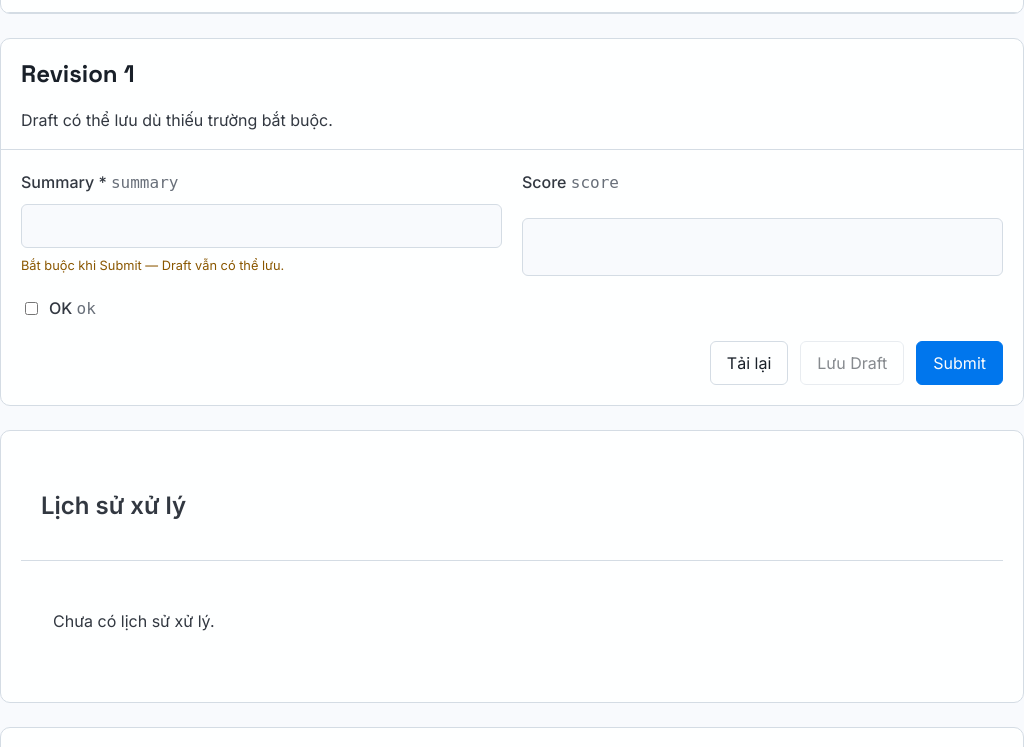
Test: Inspection Draft UI › blocks Submit until required data is saved, then selects a Reviewer
The width and height of the screenshot is (1024, 747).
(page scrolled)
Click the button "Submit" at (960, 363), box [916,341,1003,385]
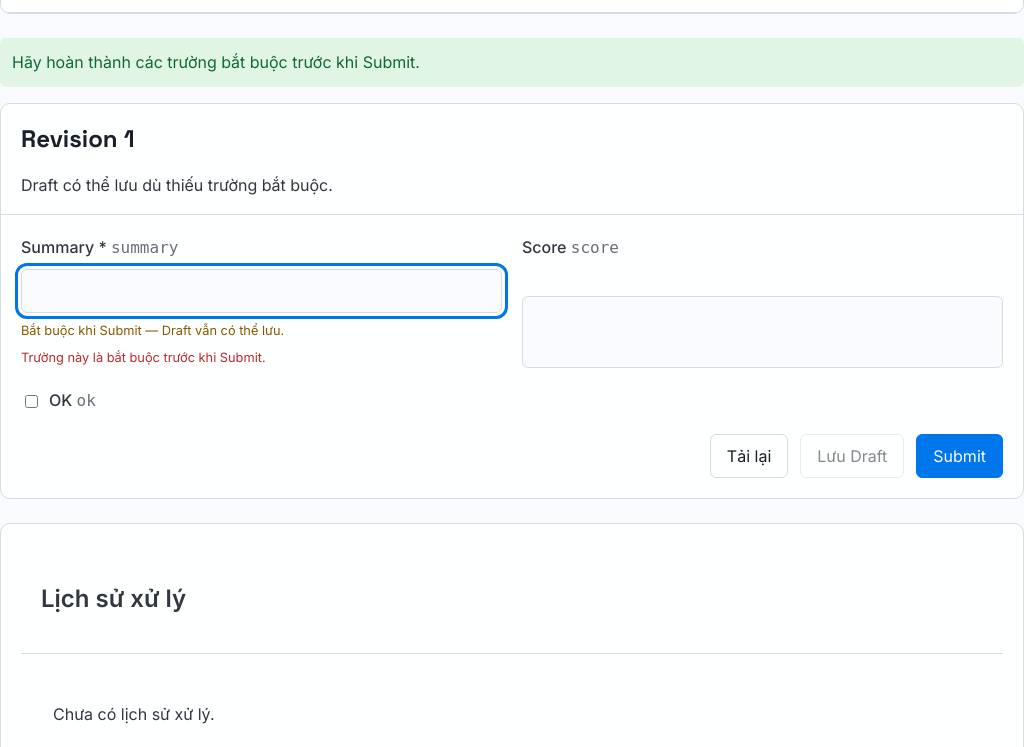
expect the text "Trường này là bắt buộc trước khi Submit." is shown: met, box [21,350,266,365]
Type "complete" into the field labelled "Summary * summary" at (262, 291), box [21,269,502,313]
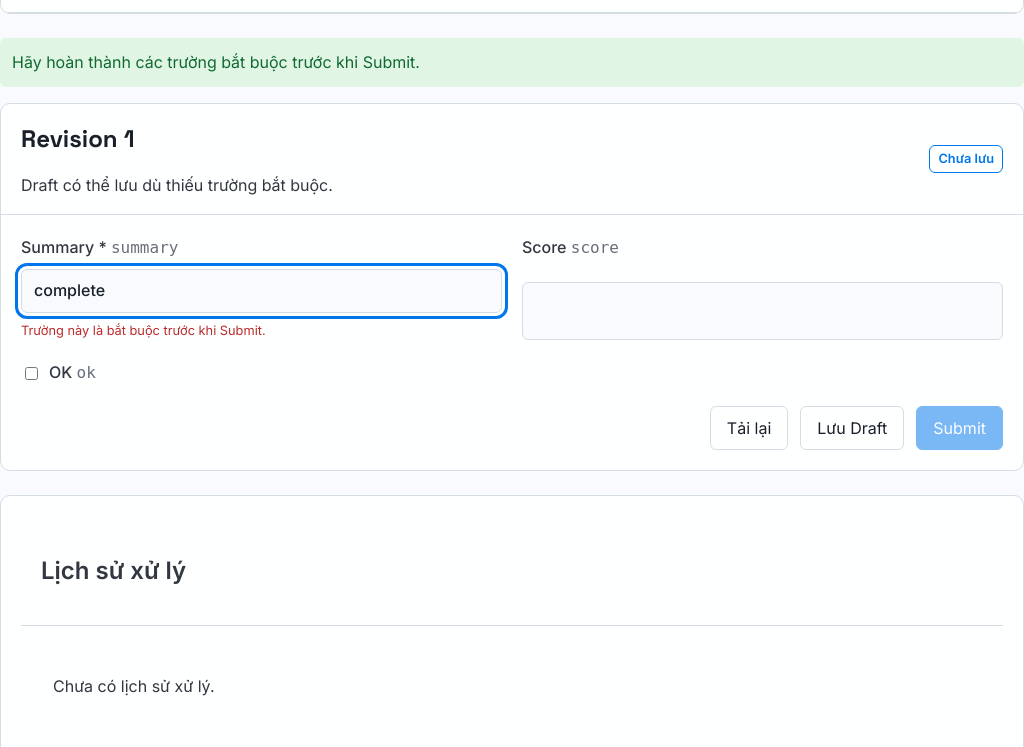
expect the button "Submit" is disabled: met, box [916,406,1003,450]
Click the button "Lưu Draft" at (852, 428), box [800,406,904,450]
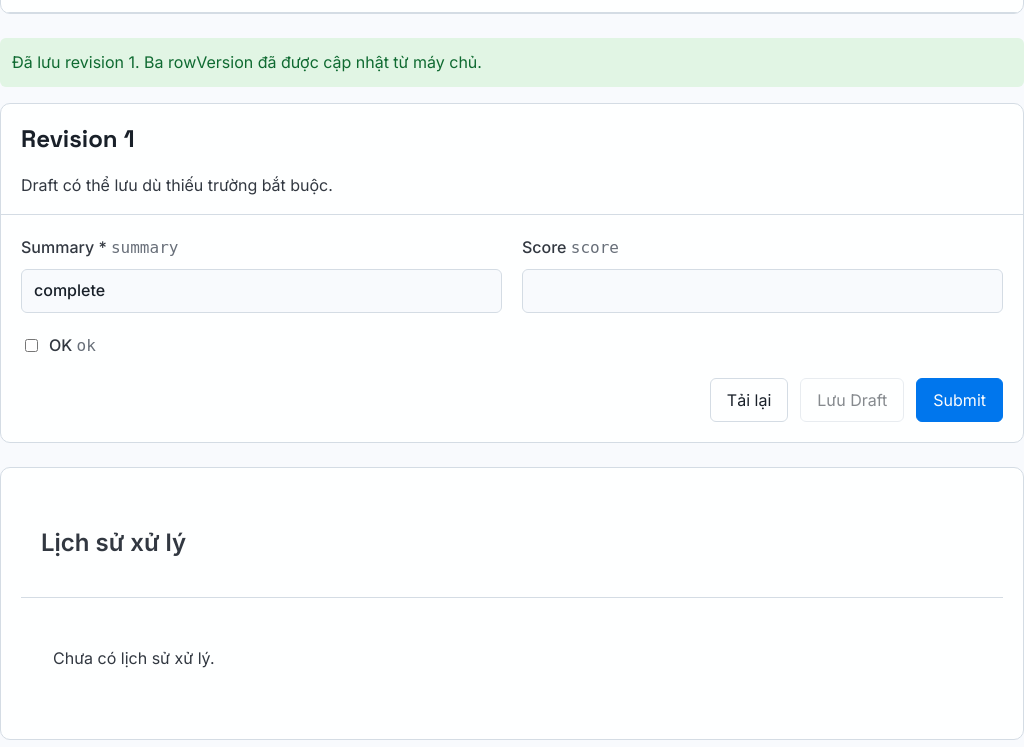
expect the text "Đã lưu revision 1. Ba rowVersion đã được cập nhật từ máy chủ." is shown: met, box [0,38,1023,87]
Click the button "Submit" at (960, 400), box [916,378,1003,422]
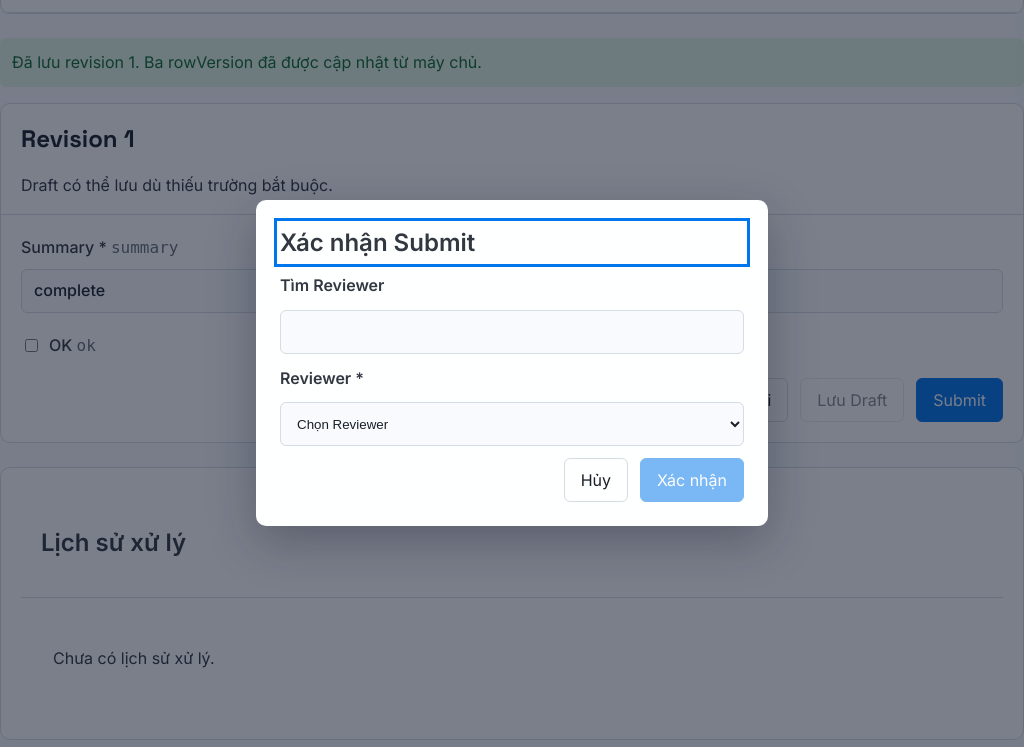
Select "Demo Reviewer" in the dropdown labelled "Reviewer *" at (512, 424), box [280,402,744,446]
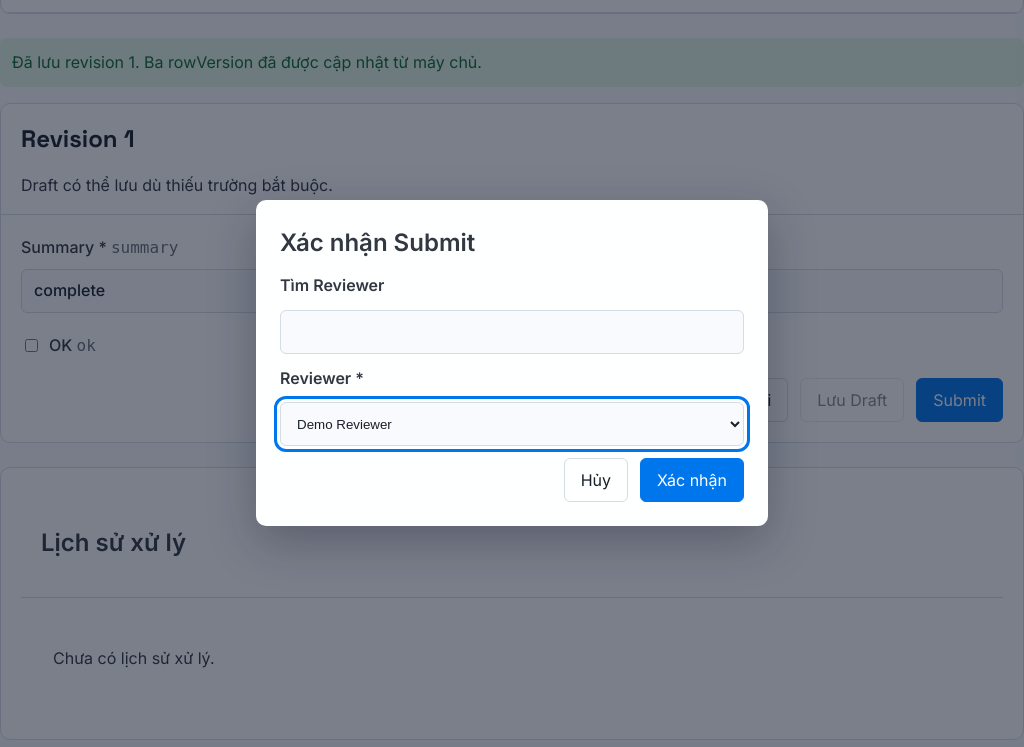
Click the button "Xác nhận" at (692, 480), box [640,458,744,502]
(page scrolled)
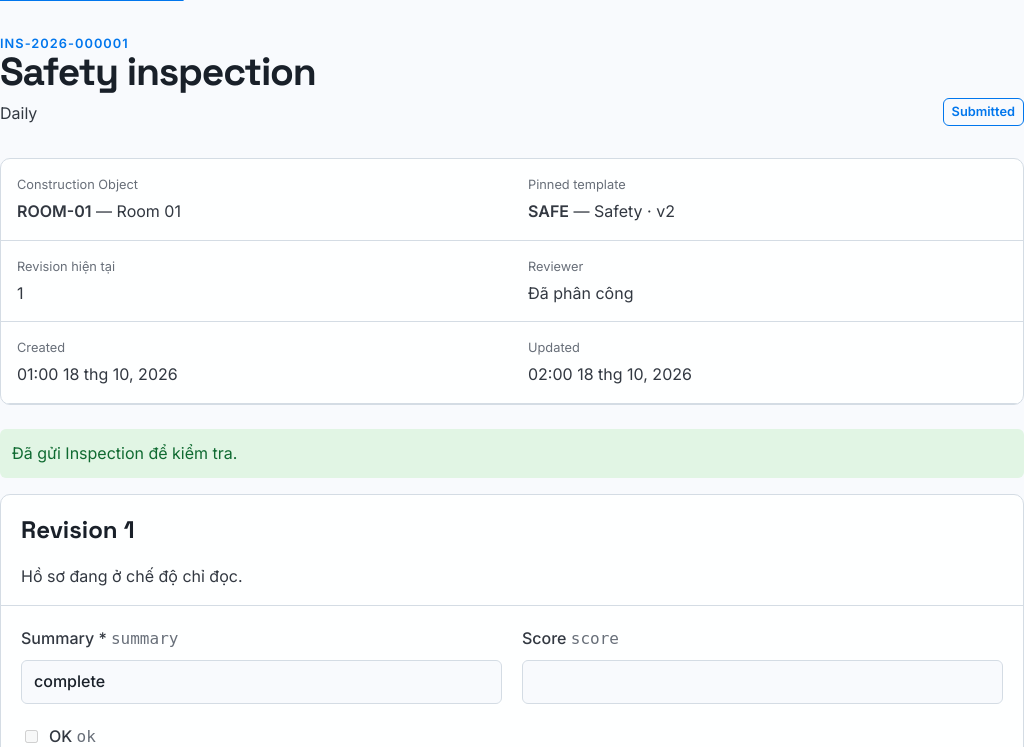
expect the text "Submitted" is shown: met, box [943,98,1023,126]
